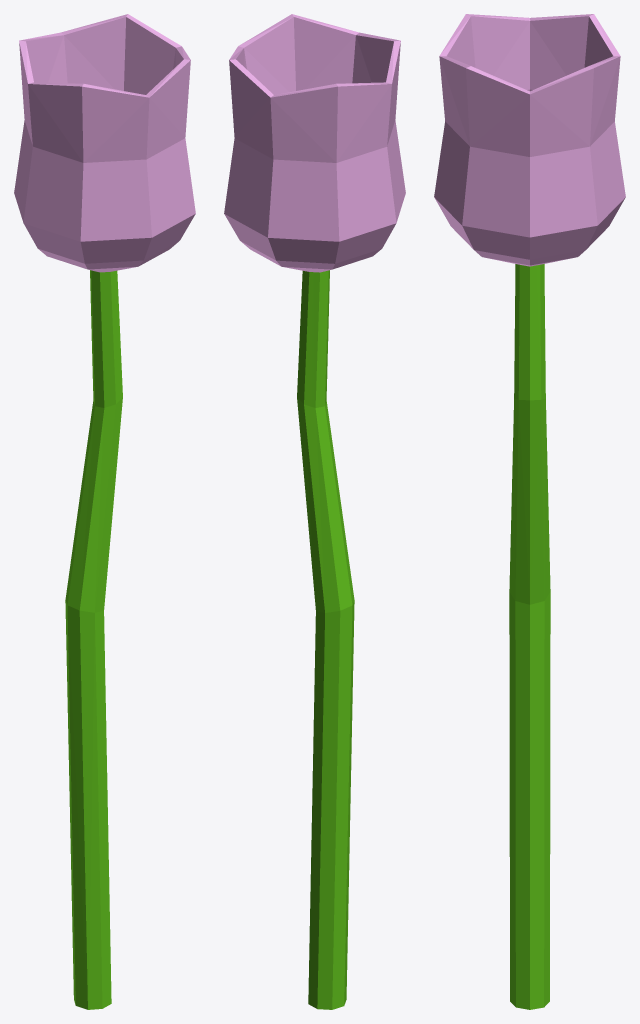
File: Flower.fbx
3 views of the same model, side by side, from view 1: azimuth 30°, elevation 25°; view 2: azimuth 150°, elevation 25°; view 3: azimuth 270°, elevation 25° (orthographic).
Visible parts, largest first — view 1: Vegetation_Verdant_Plant_Flower_02, Vegetation_Verdant_Plant_Flower_02.001; view 2: Vegetation_Verdant_Plant_Flower_02, Vegetation_Verdant_Plant_Flower_02.001; view 3: Vegetation_Verdant_Plant_Flower_02, Vegetation_Verdant_Plant_Flower_02.001.
Part boxes in pixels (left/top/right/bottom): Vegetation_Verdant_Plant_Flower_02: left=14, top=14, right=195, bottom=272; Vegetation_Verdant_Plant_Flower_02.001: left=65, top=270, right=122, bottom=1009; Vegetation_Verdant_Plant_Flower_02: left=224, top=14, right=405, bottom=272; Vegetation_Verdant_Plant_Flower_02.001: left=297, top=270, right=354, bottom=1009; Vegetation_Verdant_Plant_Flower_02: left=434, top=14, right=625, bottom=266; Vegetation_Verdant_Plant_Flower_02.001: left=509, top=264, right=550, bottom=1009.
Bounding box in the file's own units: 16.61 × 92.34 × 16.61.
